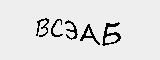А: (81, 23, 100, 47)
Б: (102, 19, 123, 48)
В: (35, 16, 49, 38)
С: (51, 17, 65, 39)
Э: (65, 19, 78, 42)
